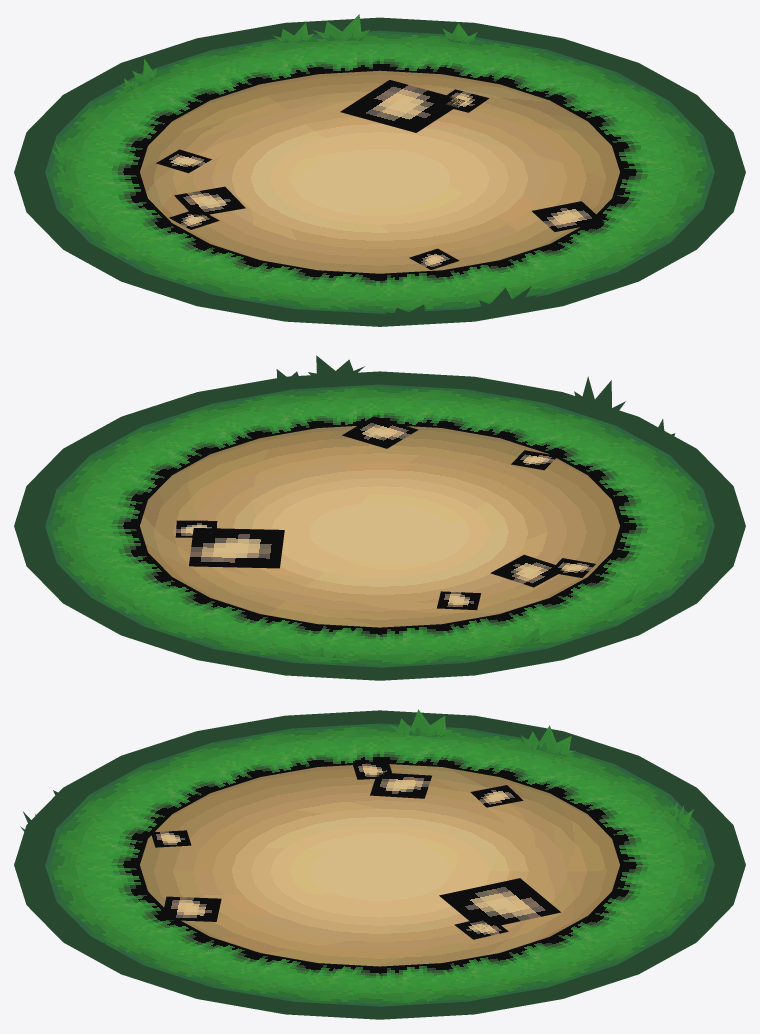
The model's file is Patch_Field.fbx.
The picture shows the model from 3 angles, top to bottom: view 1: azimuth 30°, elevation 25°; view 2: azimuth 150°, elevation 25°; view 3: azimuth 270°, elevation 25°; orthographic projection.
Parts seen in each view (by area): view 1: polygon2, polygon1, polygon3, polygon0, polygon5, polygon4; view 2: polygon2, polygon1, polygon3, polygon0, polygon4, polygon5; view 3: polygon2, polygon1, polygon3, polygon0, polygon5, polygon4.
Boxes of the visible parts, x1,y1,x2,y2 form: polygon2: (45, 30, 714, 313); polygon1: (140, 70, 619, 273); polygon3: (14, 17, 745, 326); polygon0: (156, 80, 604, 269); polygon5: (52, 14, 477, 228); polygon4: (385, 199, 724, 316); polygon2: (45, 384, 714, 667); polygon1: (140, 426, 619, 627); polygon3: (14, 371, 745, 680); polygon0: (175, 416, 595, 610); polygon4: (272, 355, 679, 447); polygon5: (66, 548, 646, 658); polygon2: (45, 723, 714, 1006); polygon1: (140, 764, 619, 966); polygon3: (14, 710, 745, 1019); polygon0: (150, 762, 560, 939); polygon5: (389, 709, 698, 961); polygon4: (20, 785, 142, 972).
Bounding box in the file's own units: 1096 × 57.37 × 1096.
